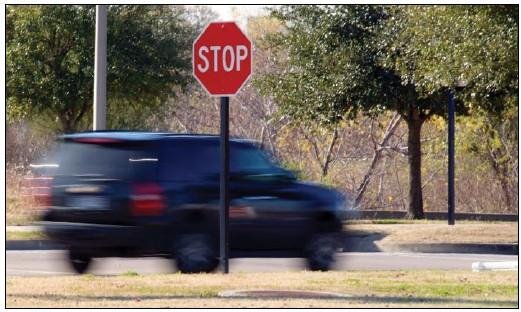Pole: (219, 97, 230, 274), (448, 112, 455, 224)
Sign: (192, 20, 253, 95)
